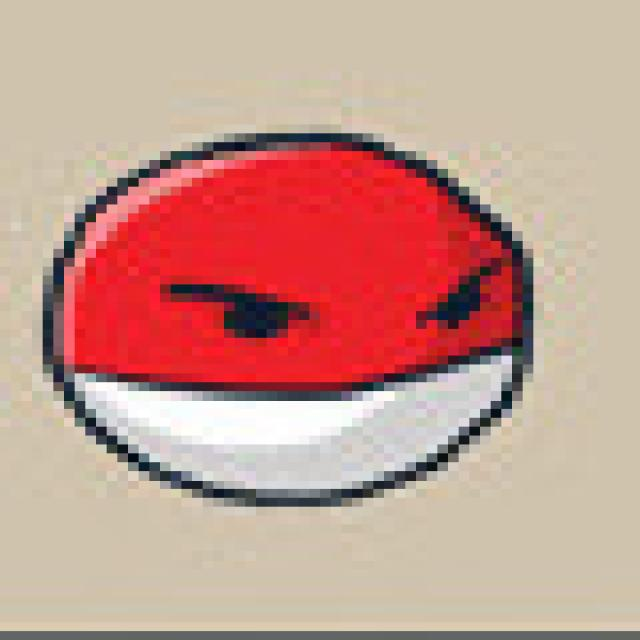Voltorb: (43, 122, 534, 512)
